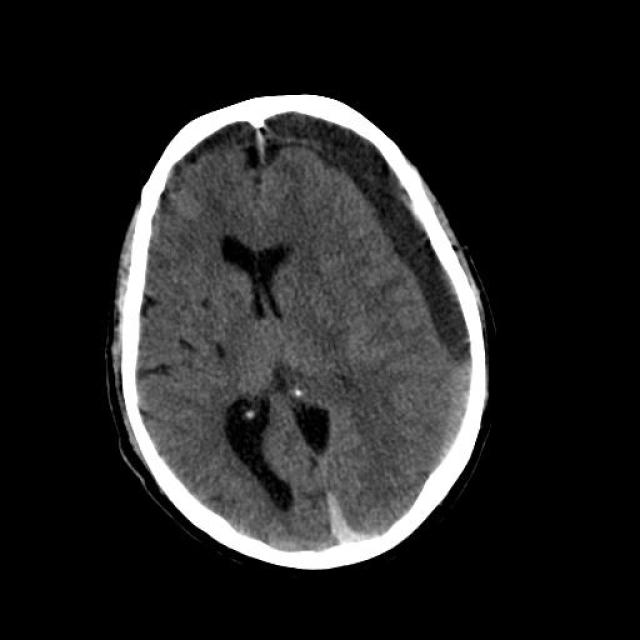Subdural: (295, 435, 393, 557), (426, 328, 489, 478)
